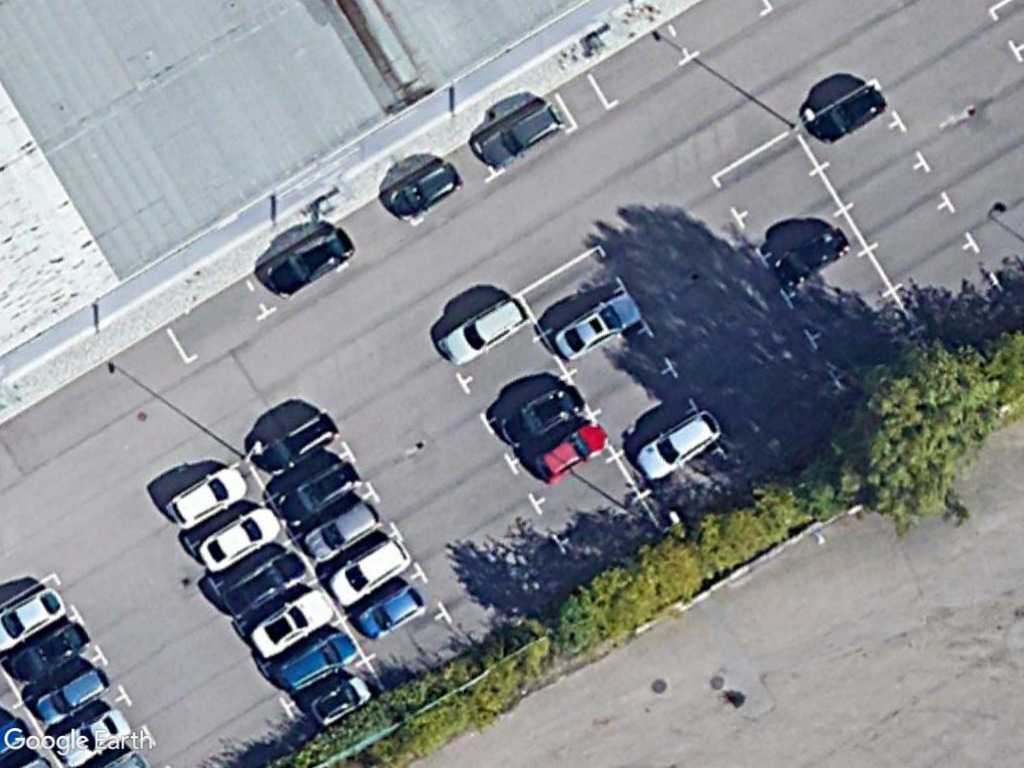car: (437, 289, 536, 369), (259, 221, 353, 304), (274, 449, 368, 529), (547, 288, 641, 364), (634, 404, 722, 485), (474, 96, 568, 171), (323, 530, 413, 607), (194, 504, 285, 579), (253, 406, 342, 482), (160, 461, 251, 535), (250, 586, 338, 661), (496, 380, 586, 452), (5, 615, 92, 689), (302, 491, 389, 565), (532, 416, 614, 489), (33, 661, 114, 729), (275, 627, 357, 692), (811, 84, 892, 146), (352, 580, 428, 642), (385, 159, 462, 220), (309, 669, 377, 731)
